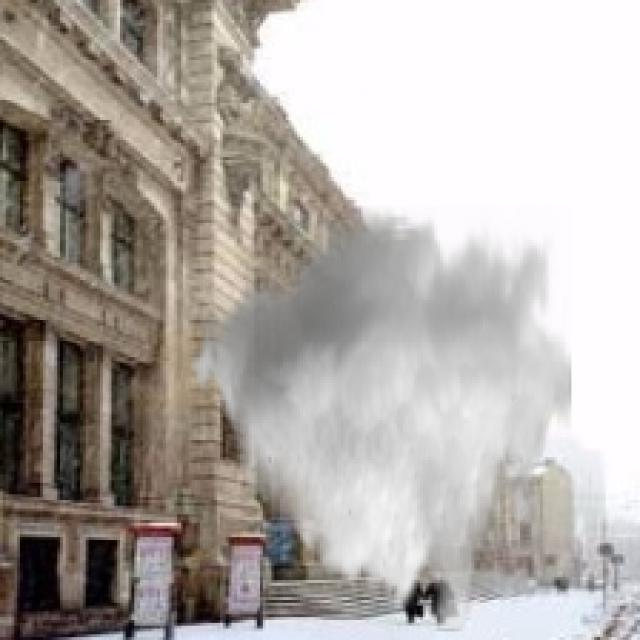Smoke: (183, 206, 572, 632)
